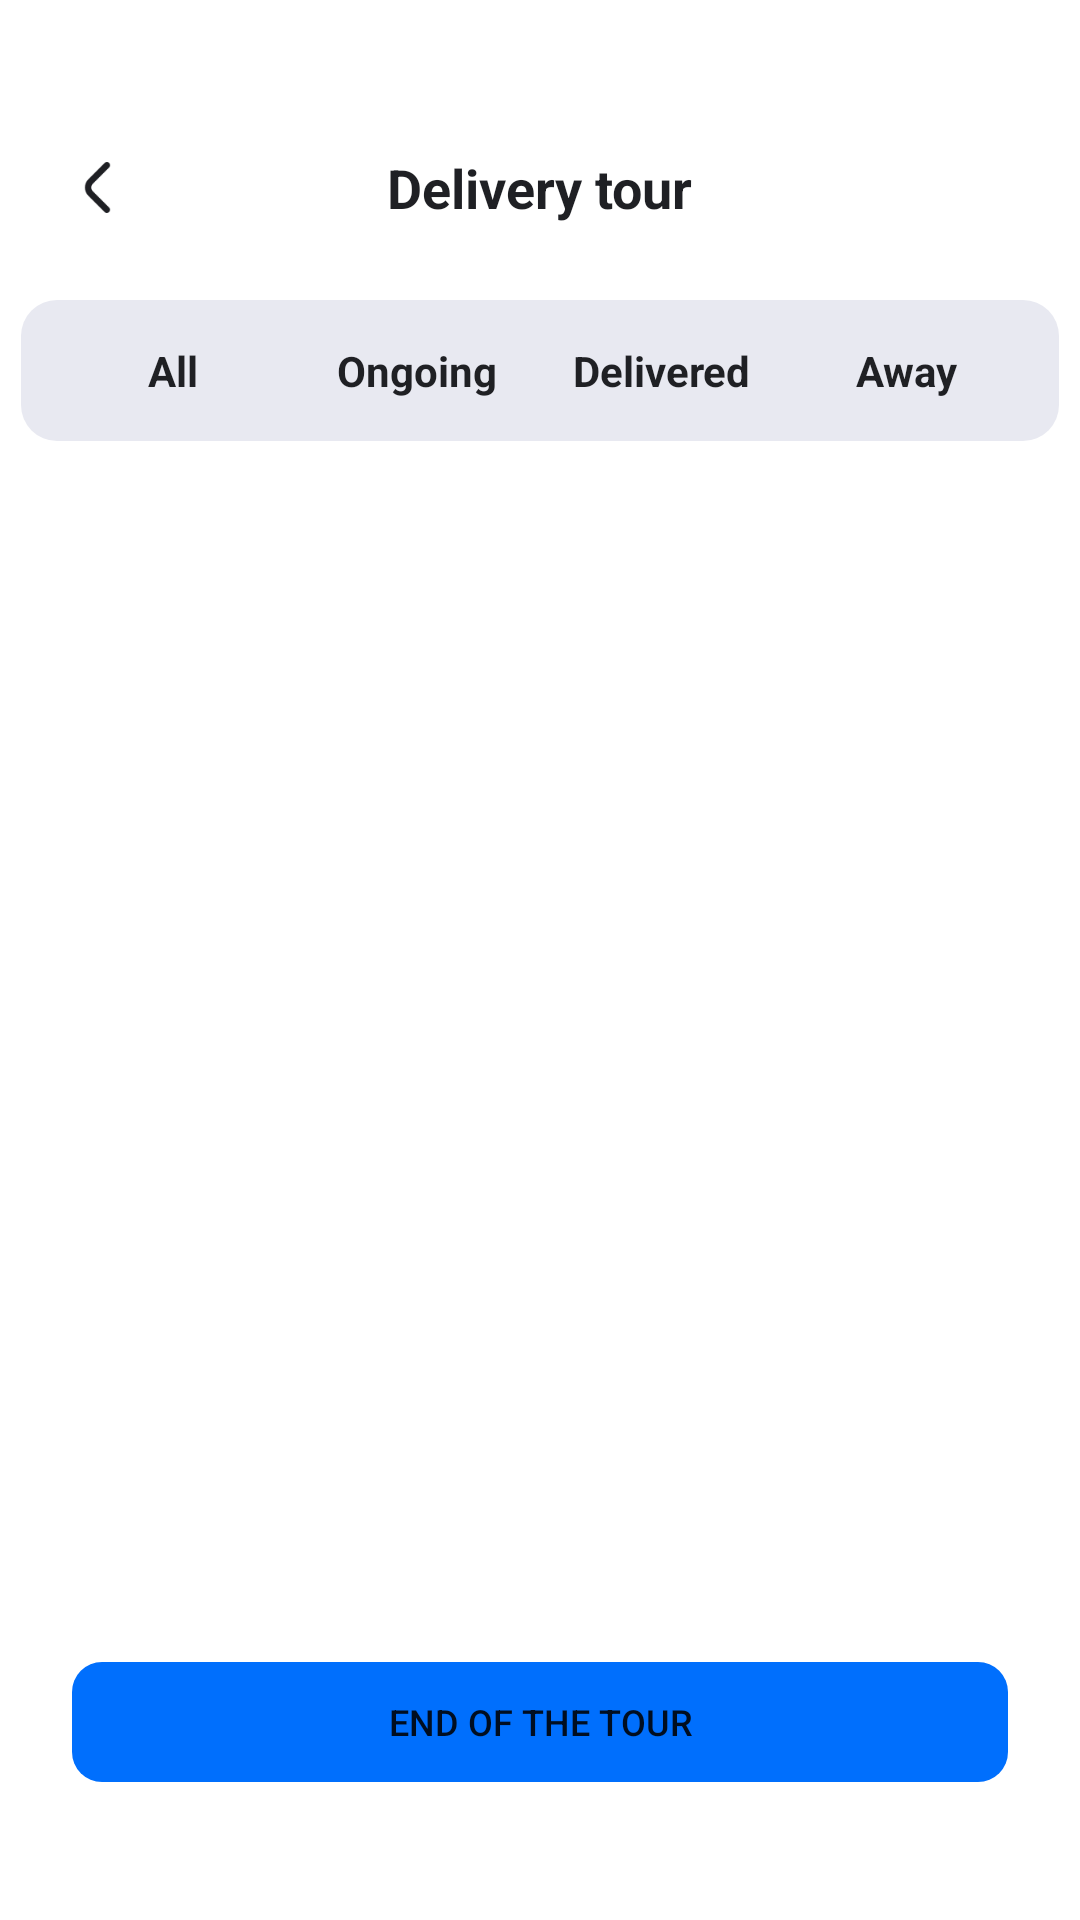

Where icons sit on this 1080*1920 app screen, as bbox=[x1, y1, x2, y2]:
back: bbox=[84, 162, 111, 213]
